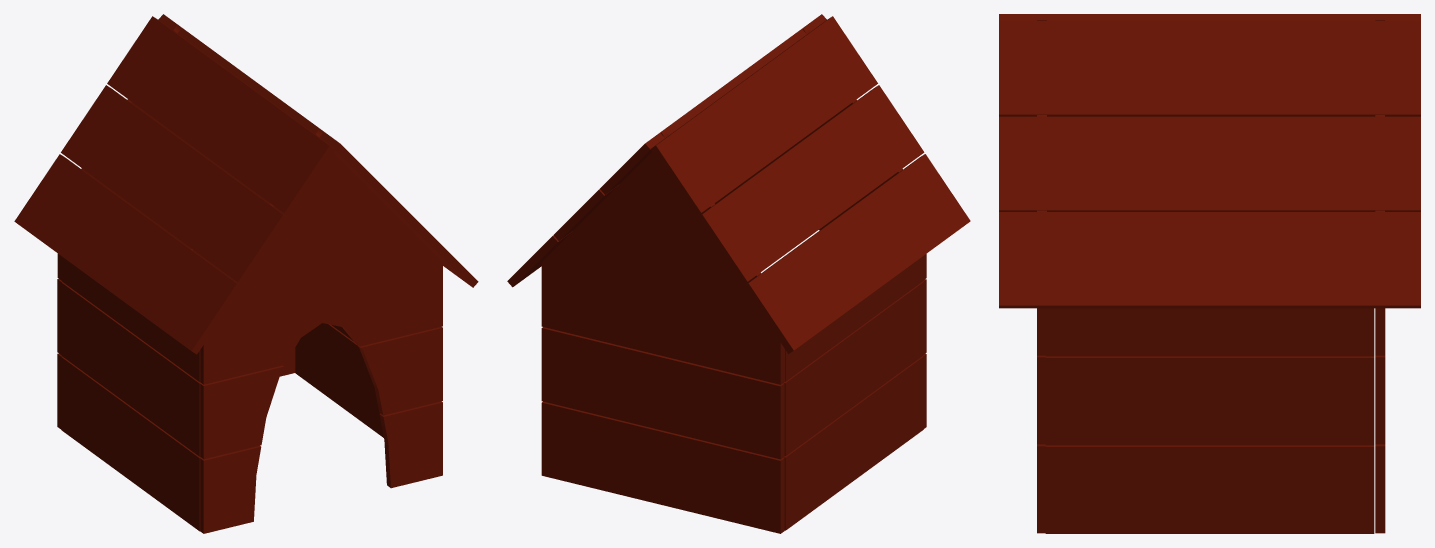
Rendered from house.glb.
3 views of the same model, side by side, from view 1: azimuth 30°, elevation 25°; view 2: azimuth 150°, elevation 25°; view 3: azimuth 270°, elevation 25° (orthographic). The views are drawn at different scales.
Parts seen in each view (by area): view 1: polySurface29; view 2: polySurface29; view 3: polySurface29.
Part boxes in pixels (box(x1,y1,x2,y2)): polySurface29: box(14, 14, 478, 533); polySurface29: box(507, 14, 970, 533); polySurface29: box(999, 14, 1420, 533).
Size of the model in its own units: 0.0153 by 0.019 by 0.0163.
